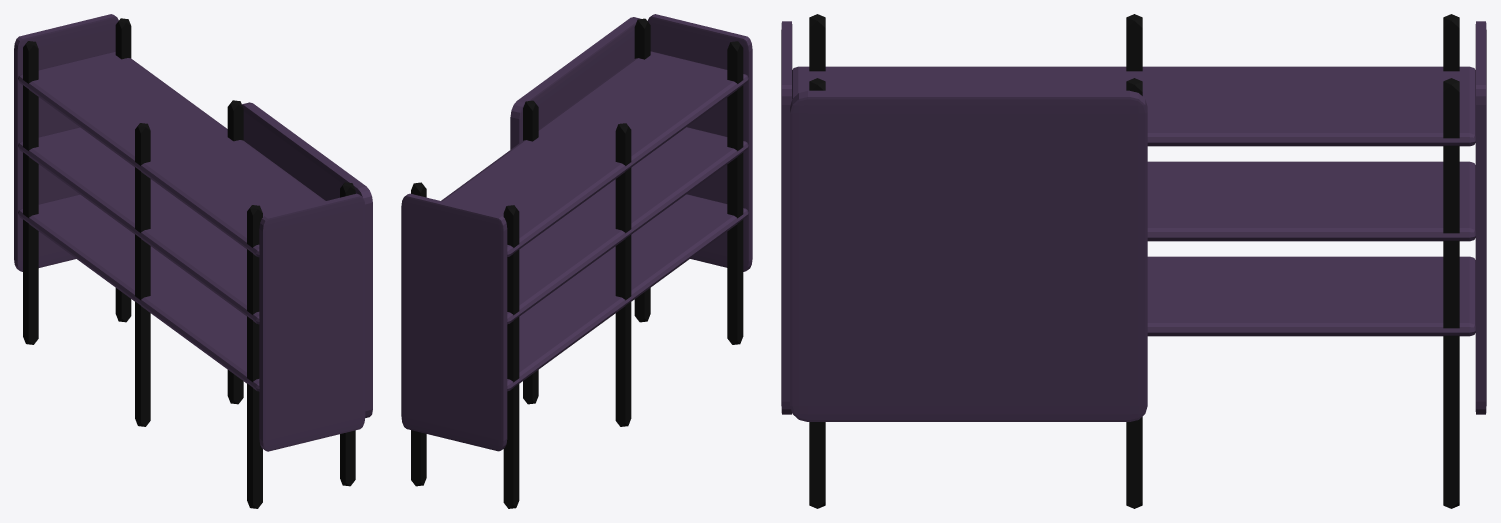
File: shelf.glb
The picture shows the model from 3 angles, left to right: view 1: azimuth 30°, elevation 25°; view 2: azimuth 150°, elevation 25°; view 3: azimuth 270°, elevation 25°; orthographic projection. The views are drawn at different scales.
Parts seen in each view (by area): view 1: Cube, Cube.003, Cube.001, Cube.004; view 2: Cube, Cube.003, Cube.001, Cube.004; view 3: Cube.004, Cube, Cube.001, Cube.003.
Boxes of the visible parts, x1,y1,x2,y2 form: Cube: (18,51,325,391); Cube.003: (14,14,365,451); Cube.001: (23,18,355,508); Cube.004: (242,102,372,418); Cube: (441,51,748,391); Cube.003: (401,14,752,451); Cube.001: (411,18,743,508); Cube.004: (510,17,640,149); Cube.004: (790,90,1147,421); Cube: (792,66,1475,336); Cube.001: (809,14,1459,508); Cube.003: (781,21,1486,414).
Size of the model in its own units: 2.19 by 5.47 by 8.25.
